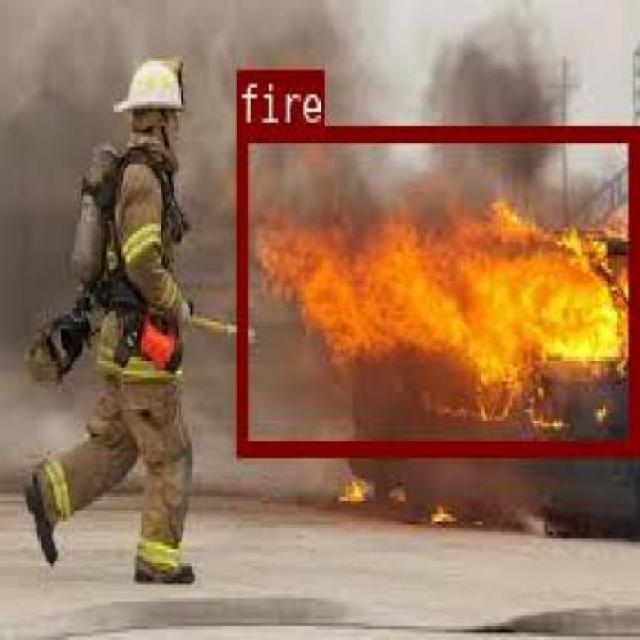Fire: (234, 124, 636, 452)
